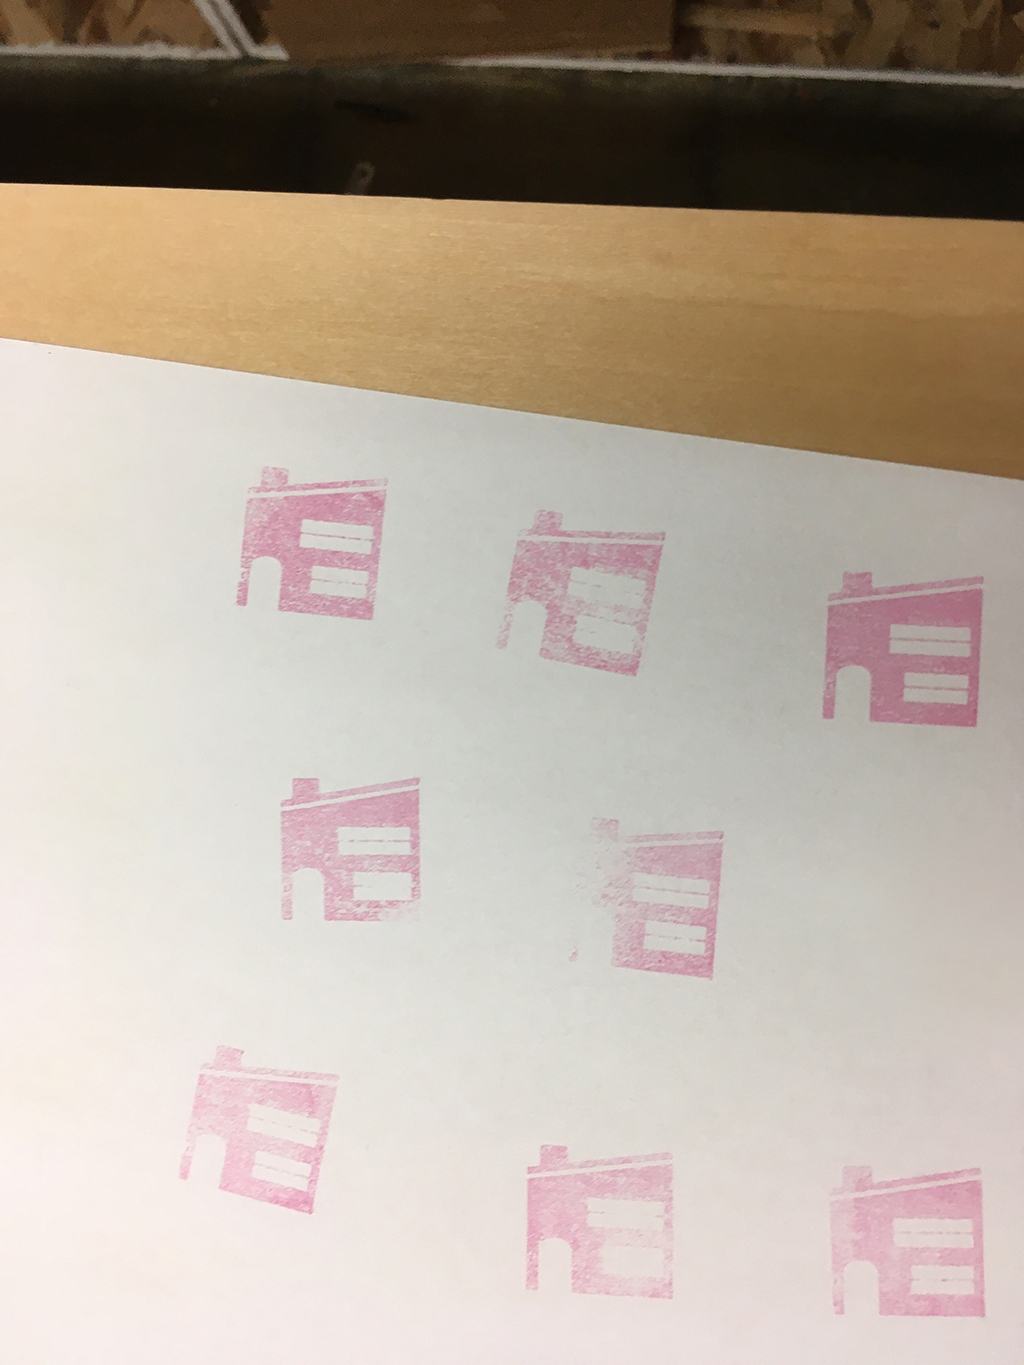house: (502, 1117, 702, 1312), (481, 497, 681, 689), (163, 1024, 349, 1229), (798, 550, 993, 742), (550, 798, 737, 993), (805, 1148, 997, 1328), (224, 451, 406, 638), (266, 756, 435, 939)
